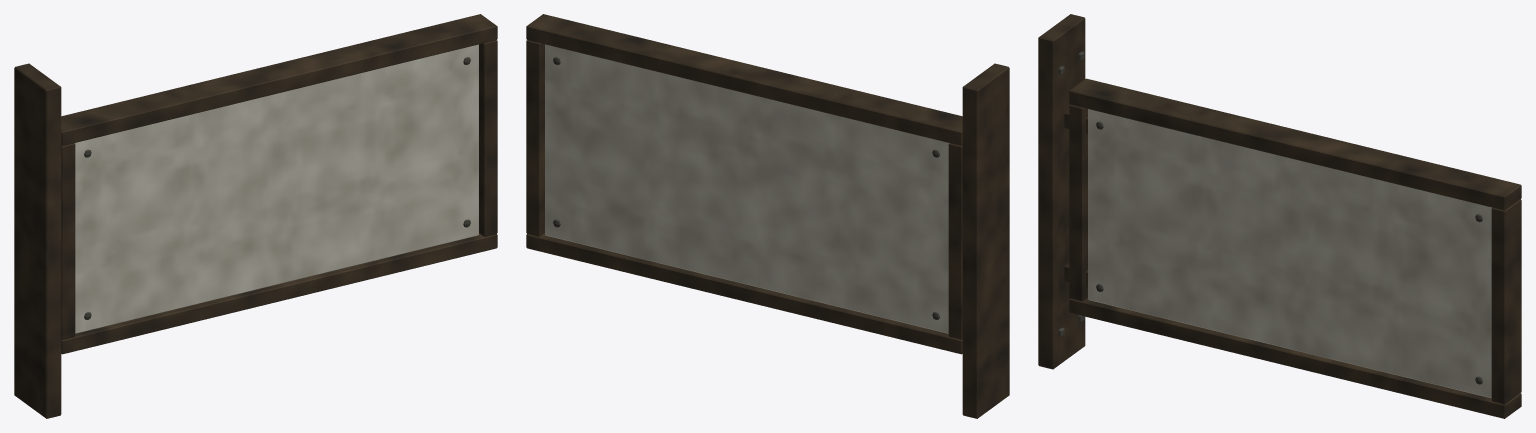
Rendered from School_Sign_Blank.glb.
The picture shows the model from 3 angles, left to right: view 1: azimuth 30°, elevation 25°; view 2: azimuth 150°, elevation 25°; view 3: azimuth 330°, elevation 25°; orthographic projection.
Parts seen in each view (by area): view 1: Sign_Blank_Panel.001, Sign_Wall_Mount.001, Sign_Frame_Horizontal.003, Sign_Frame_Horizontal.002, Sign_Frame_Vertical.003, Sign_Frame_Vertical.002; view 2: Sign_Blank_Panel.001, Sign_Wall_Mount.001, Sign_Frame_Horizontal.003, Sign_Frame_Horizontal.002, Sign_Frame_Vertical.003, Sign_Frame_Vertical.002; view 3: Sign_Blank_Panel.001, Sign_Frame_Horizontal.003, Sign_Wall_Mount.001, Sign_Frame_Horizontal.002, Sign_Frame_Vertical.003, Sign_Frame_Vertical.002.
Part boxes in pixels (x1,y1,x2,y2): Sign_Blank_Panel.001: (74, 44, 478, 333); Sign_Wall_Mount.001: (14, 63, 61, 418); Sign_Frame_Horizontal.003: (61, 14, 497, 145); Sign_Frame_Horizontal.002: (61, 233, 497, 354); Sign_Frame_Vertical.003: (479, 40, 497, 236); Sign_Frame_Vertical.002: (61, 143, 75, 339); Sign_Blank_Panel.001: (545, 44, 949, 333); Sign_Wall_Mount.001: (962, 63, 1009, 418); Sign_Frame_Horizontal.003: (526, 14, 962, 145); Sign_Frame_Horizontal.002: (526, 233, 962, 354); Sign_Frame_Vertical.003: (526, 40, 544, 236); Sign_Frame_Vertical.002: (948, 143, 962, 339); Sign_Blank_Panel.001: (1088, 109, 1491, 398); Sign_Frame_Horizontal.003: (1069, 78, 1521, 210); Sign_Wall_Mount.001: (1038, 14, 1085, 369); Sign_Frame_Horizontal.002: (1069, 297, 1521, 418); Sign_Frame_Vertical.003: (1491, 199, 1521, 404); Sign_Frame_Vertical.002: (1069, 104, 1087, 301).
Size of the model in its own units: 1.07 by 0.73 by 0.13.
3 materials, 3 textured.
